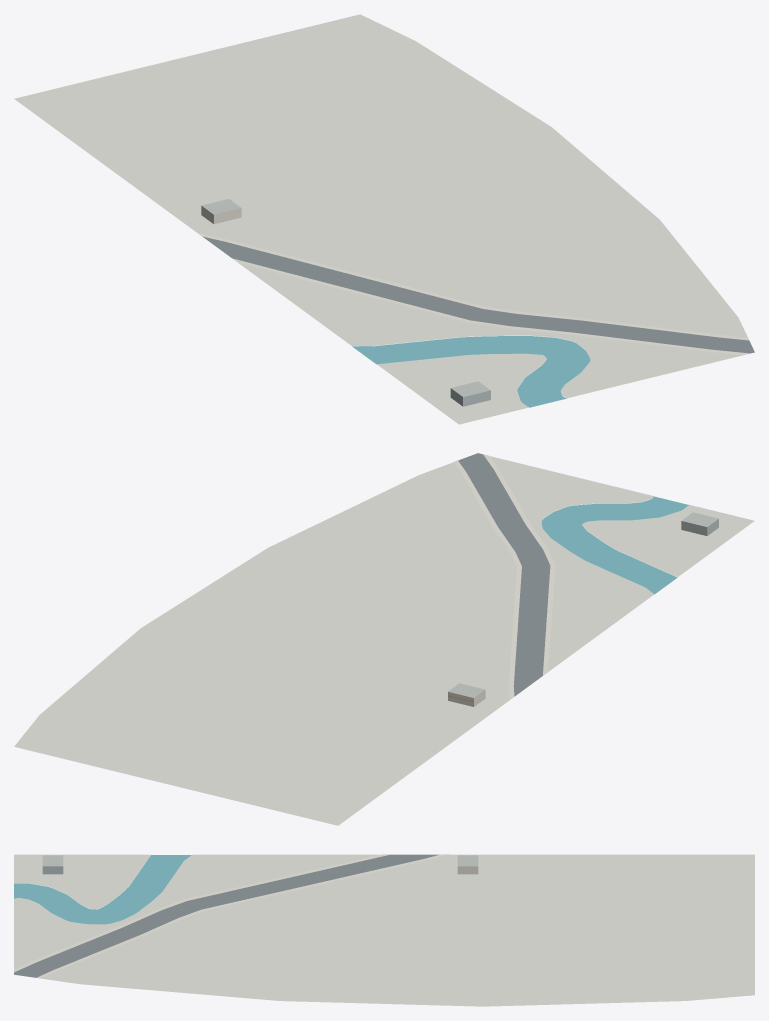
The picture shows the model from 3 angles, top to bottom: view 1: azimuth 30°, elevation 25°; view 2: azimuth 150°, elevation 25°; view 3: azimuth 270°, elevation 25°; orthographic projection. The views are drawn at different scales.
Parts seen in each view (by area): view 1: city; view 2: city; view 3: city.
Boxes of the visible parts, bbox=[...] form: city: bbox=[14, 14, 754, 424]; city: bbox=[14, 453, 754, 825]; city: bbox=[14, 854, 754, 1006].
Bounding box in the file's own units: 243 × 6.18 × 500.
